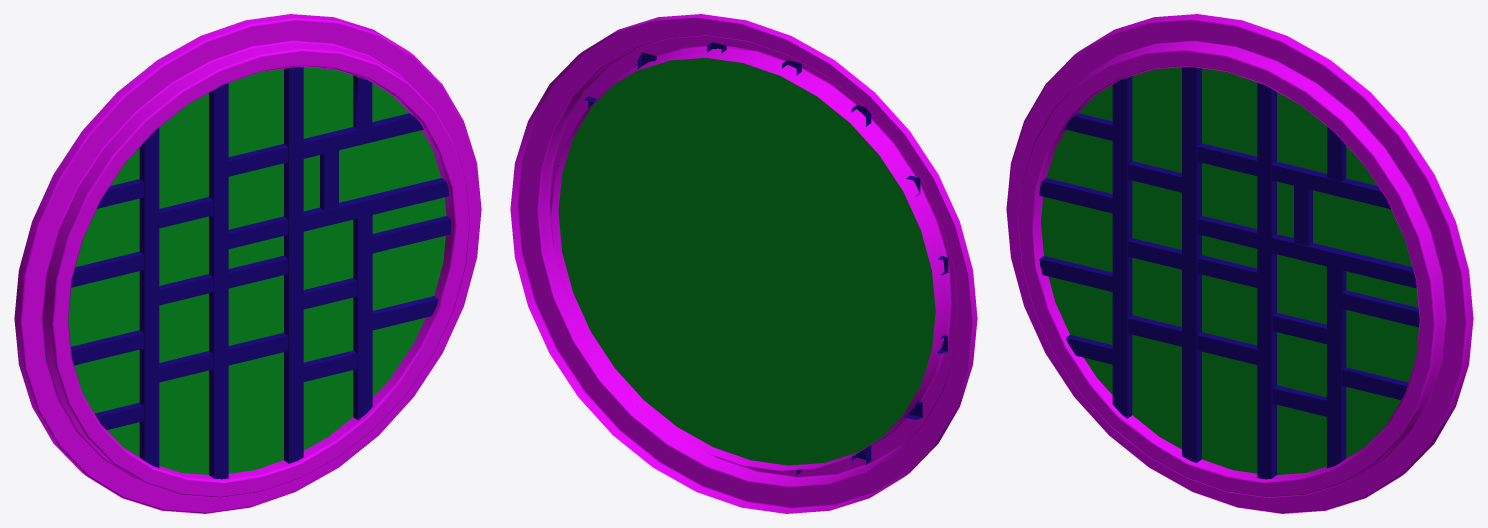
Rendered from Fenetre_Ronde_Grande_4x4x0_03.FBX.
3 views of the same model, side by side, from view 1: azimuth 30°, elevation 25°; view 2: azimuth 150°, elevation 25°; view 3: azimuth 330°, elevation 25° (orthographic).
Parts seen in each view (by area): view 1: Fenetre_Ronde_Grande_4x4x0_03; view 2: Fenetre_Ronde_Grande_4x4x0_03; view 3: Fenetre_Ronde_Grande_4x4x0_03.
Boxes of the visible parts, x1,y1,x2,y2 form: Fenetre_Ronde_Grande_4x4x0_03: [14, 14, 481, 513]; Fenetre_Ronde_Grande_4x4x0_03: [510, 14, 977, 513]; Fenetre_Ronde_Grande_4x4x0_03: [1006, 14, 1473, 513].
Size of the model in its own units: 299 by 299 by 18.32.
